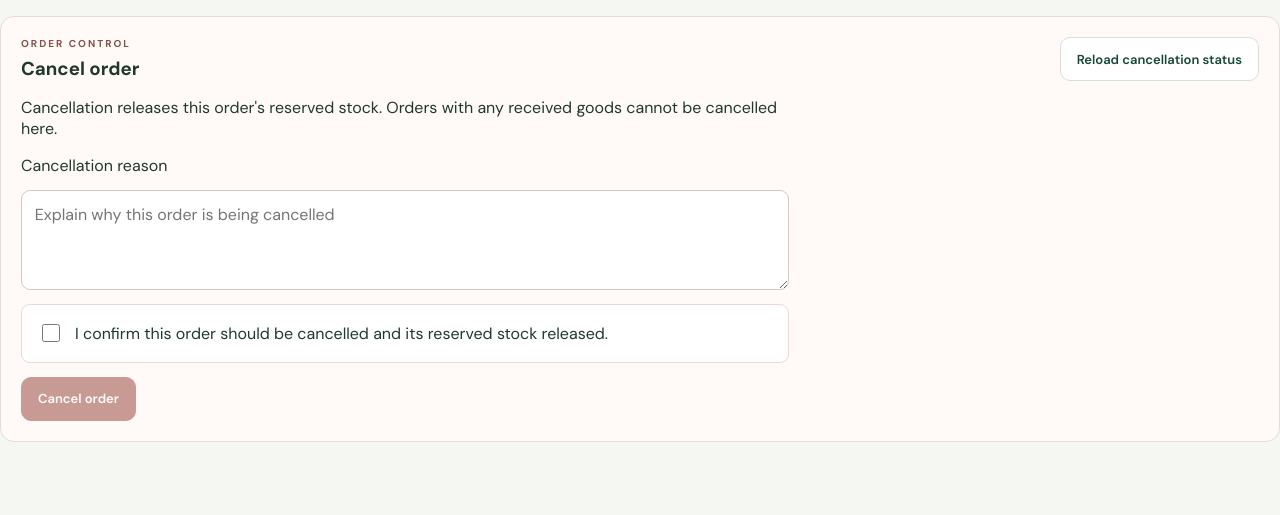
Test: Order cancellation › submits the reviewed version and shows the saved audit
Type "  Buyer withdrew the order.  " into the text box labelled "Cancellation reason".
click(405, 240); type("  Buyer withdrew the order.  ")  # box [21,190,789,290]
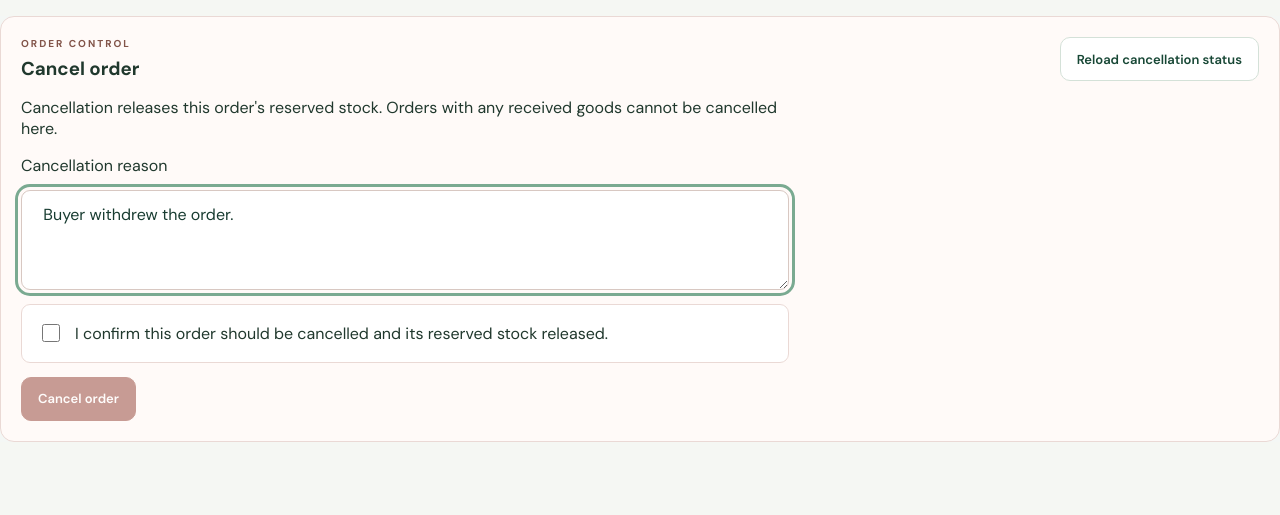
Click the checkbox.
click(51, 333)  # box [42,324,60,342]
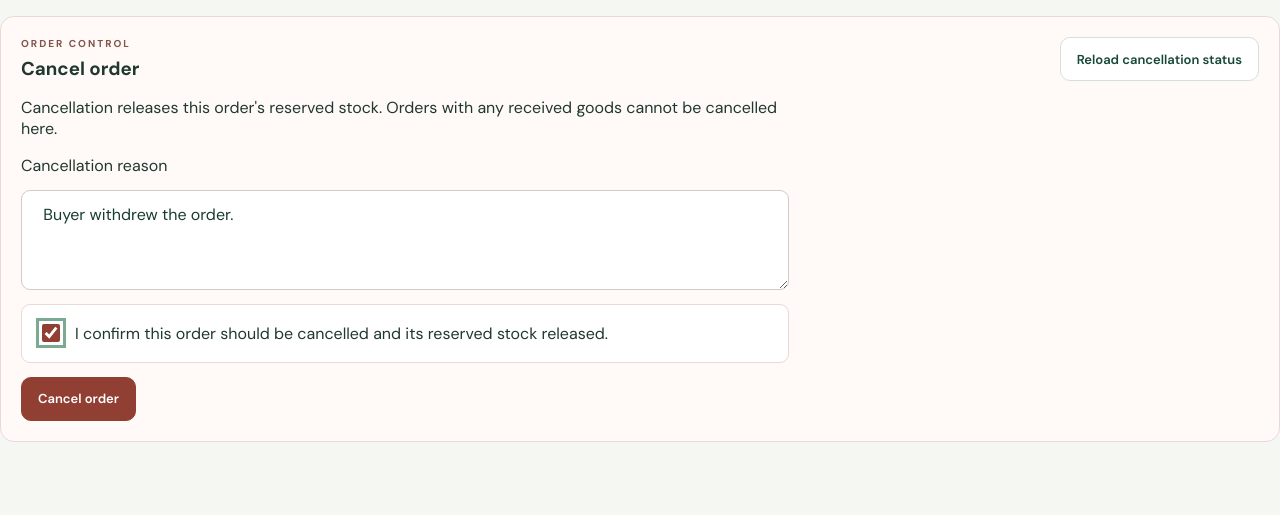
Click the button "Cancel order".
click(78, 399)  # box [21,377,136,421]
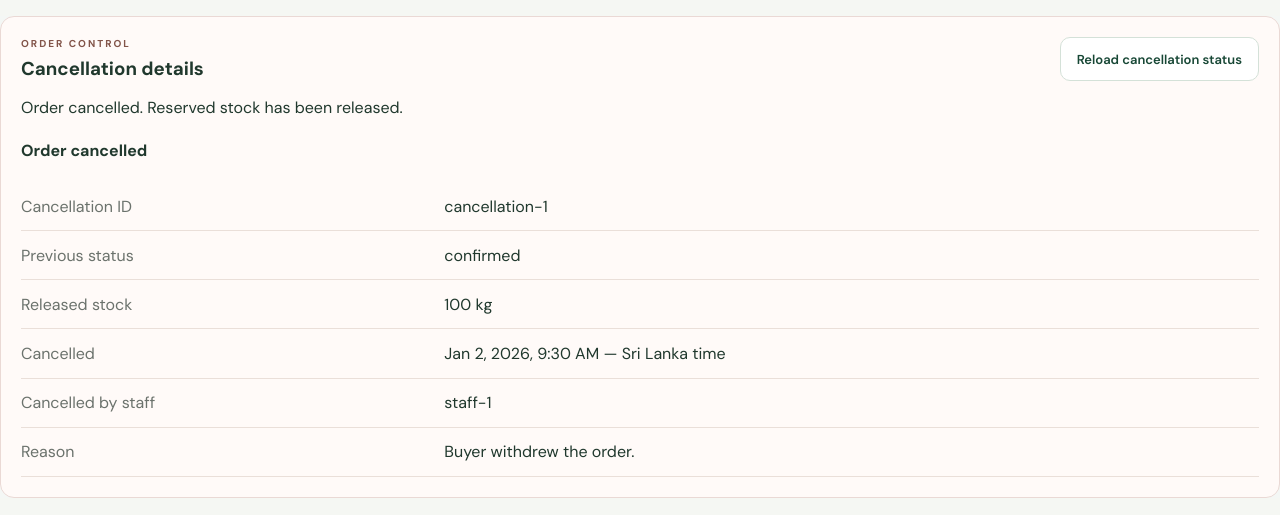
Expected: the text "cancellation-1" is shown, [444,196,548,216]
Expected: the text "100 kg" is shown, [444,294,492,315]
Expected: the text "Buyer withdrew the order." is shown, [444,442,634,462]
